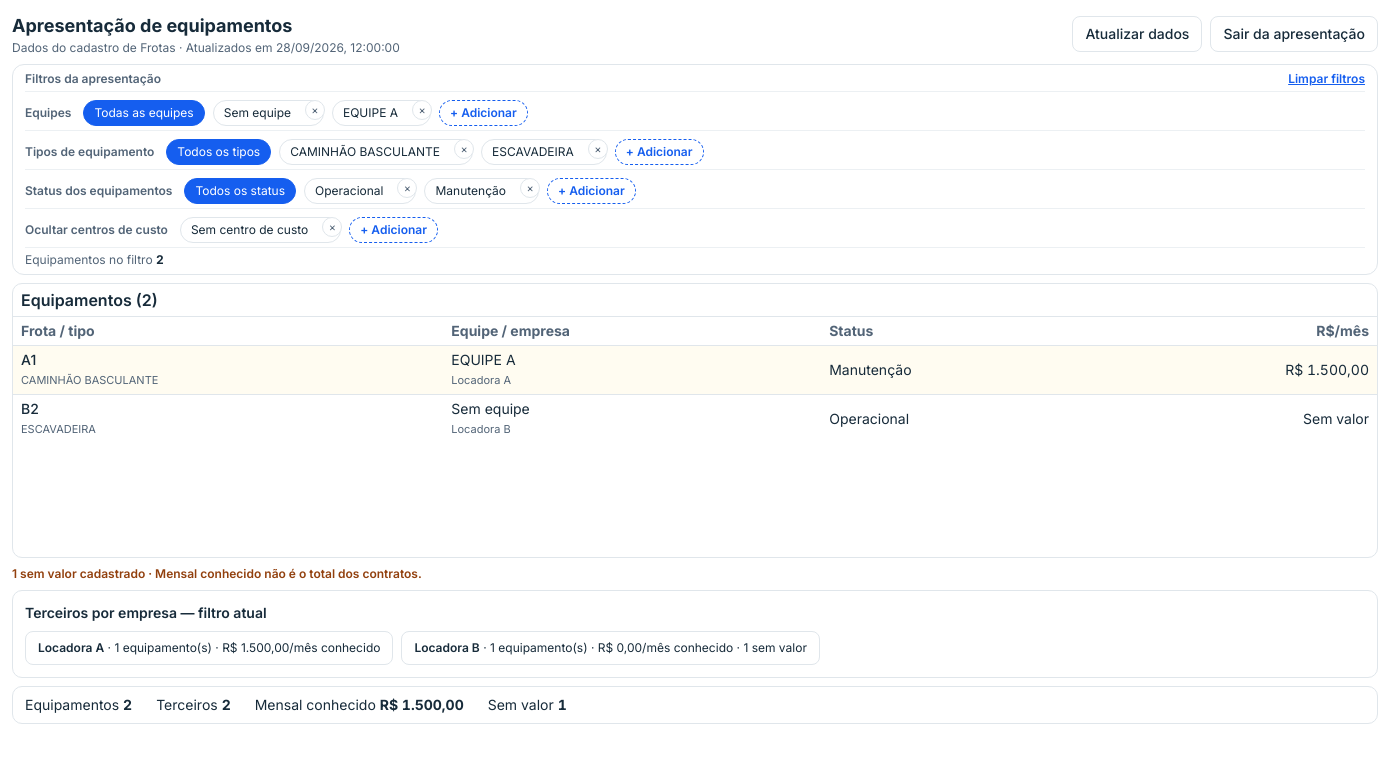
Test: tela de reunião › selects equipment types to show and recalculates costs while keeping returned fleet out
This screenshot has width=1390, height=780.
Expected: the element named "Filtrar tipos de equipamento" is shown, [25, 130, 1365, 165]
Click the button with aria-label "Selecionar tipo ESCAVADEIRA".
click(534, 152)  # box [482, 140, 586, 164]
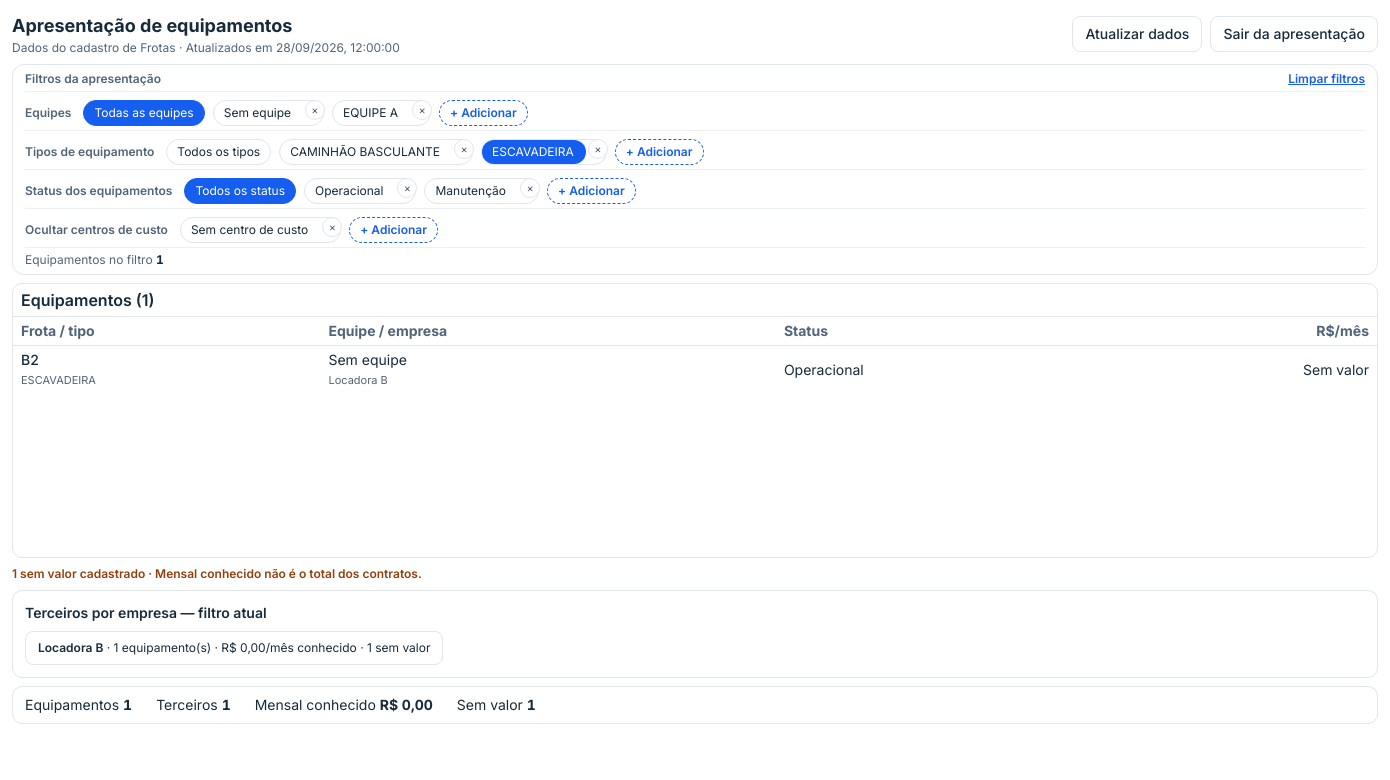
Expected: the text "B2" is shown, [21, 351, 39, 368]
Expected: the text "A1" is gone
Expected: the text "Locadora A" is gone
Click the button "Todos os tipos".
click(219, 152)  # box [166, 139, 271, 165]
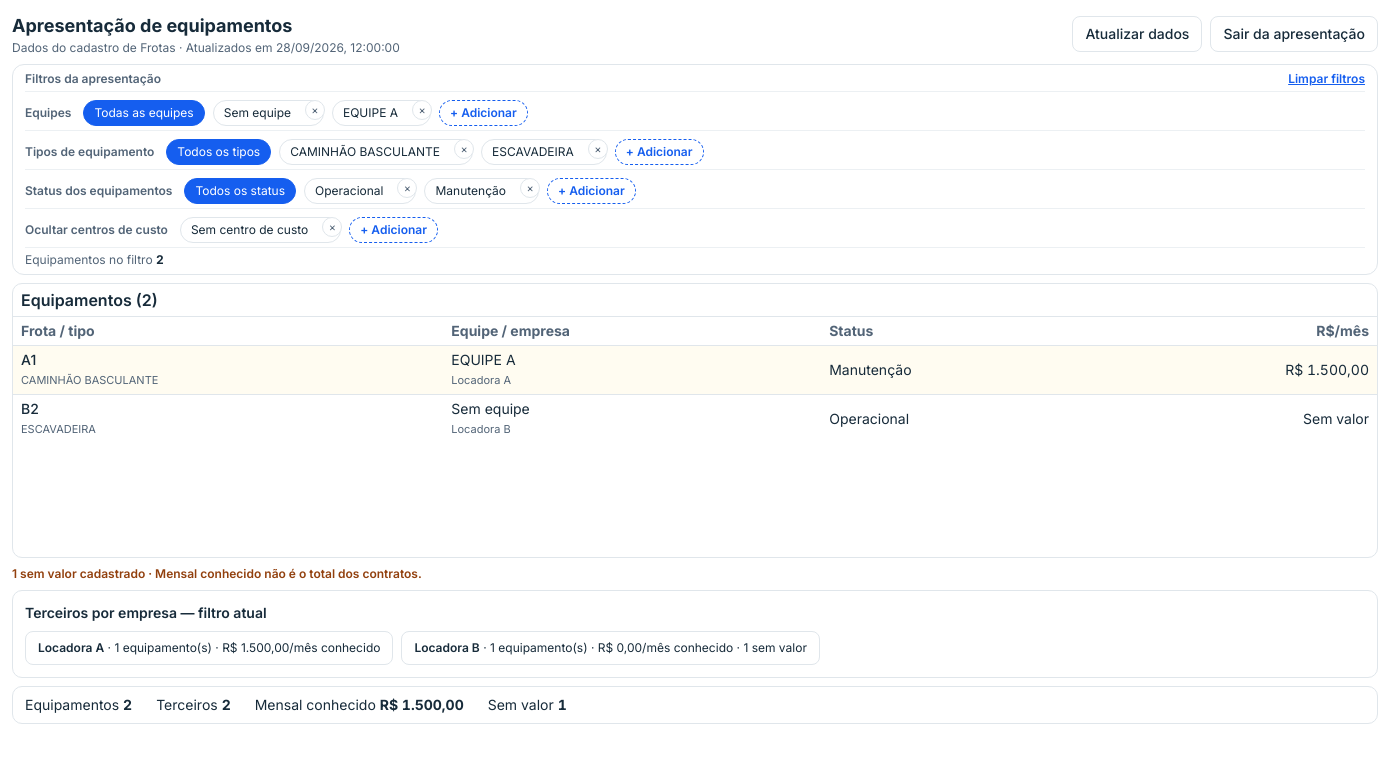
Expected: the text "A1" is shown, [21, 351, 36, 368]
